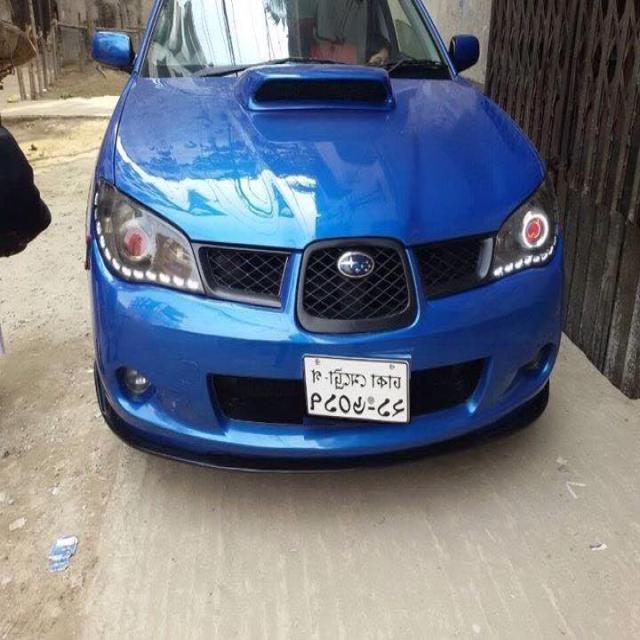numberplate: (303, 353, 411, 424)
